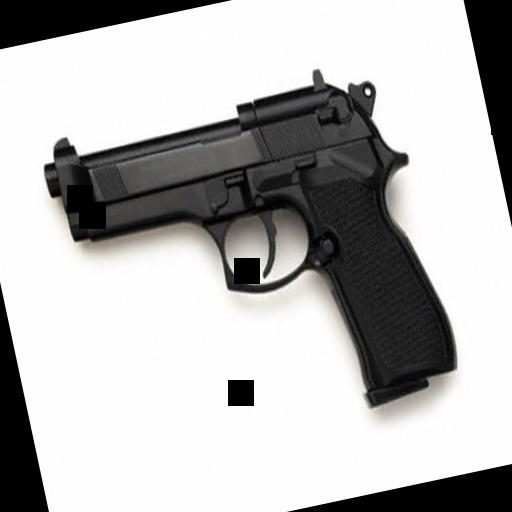Handgun: (32, 52, 462, 465)
